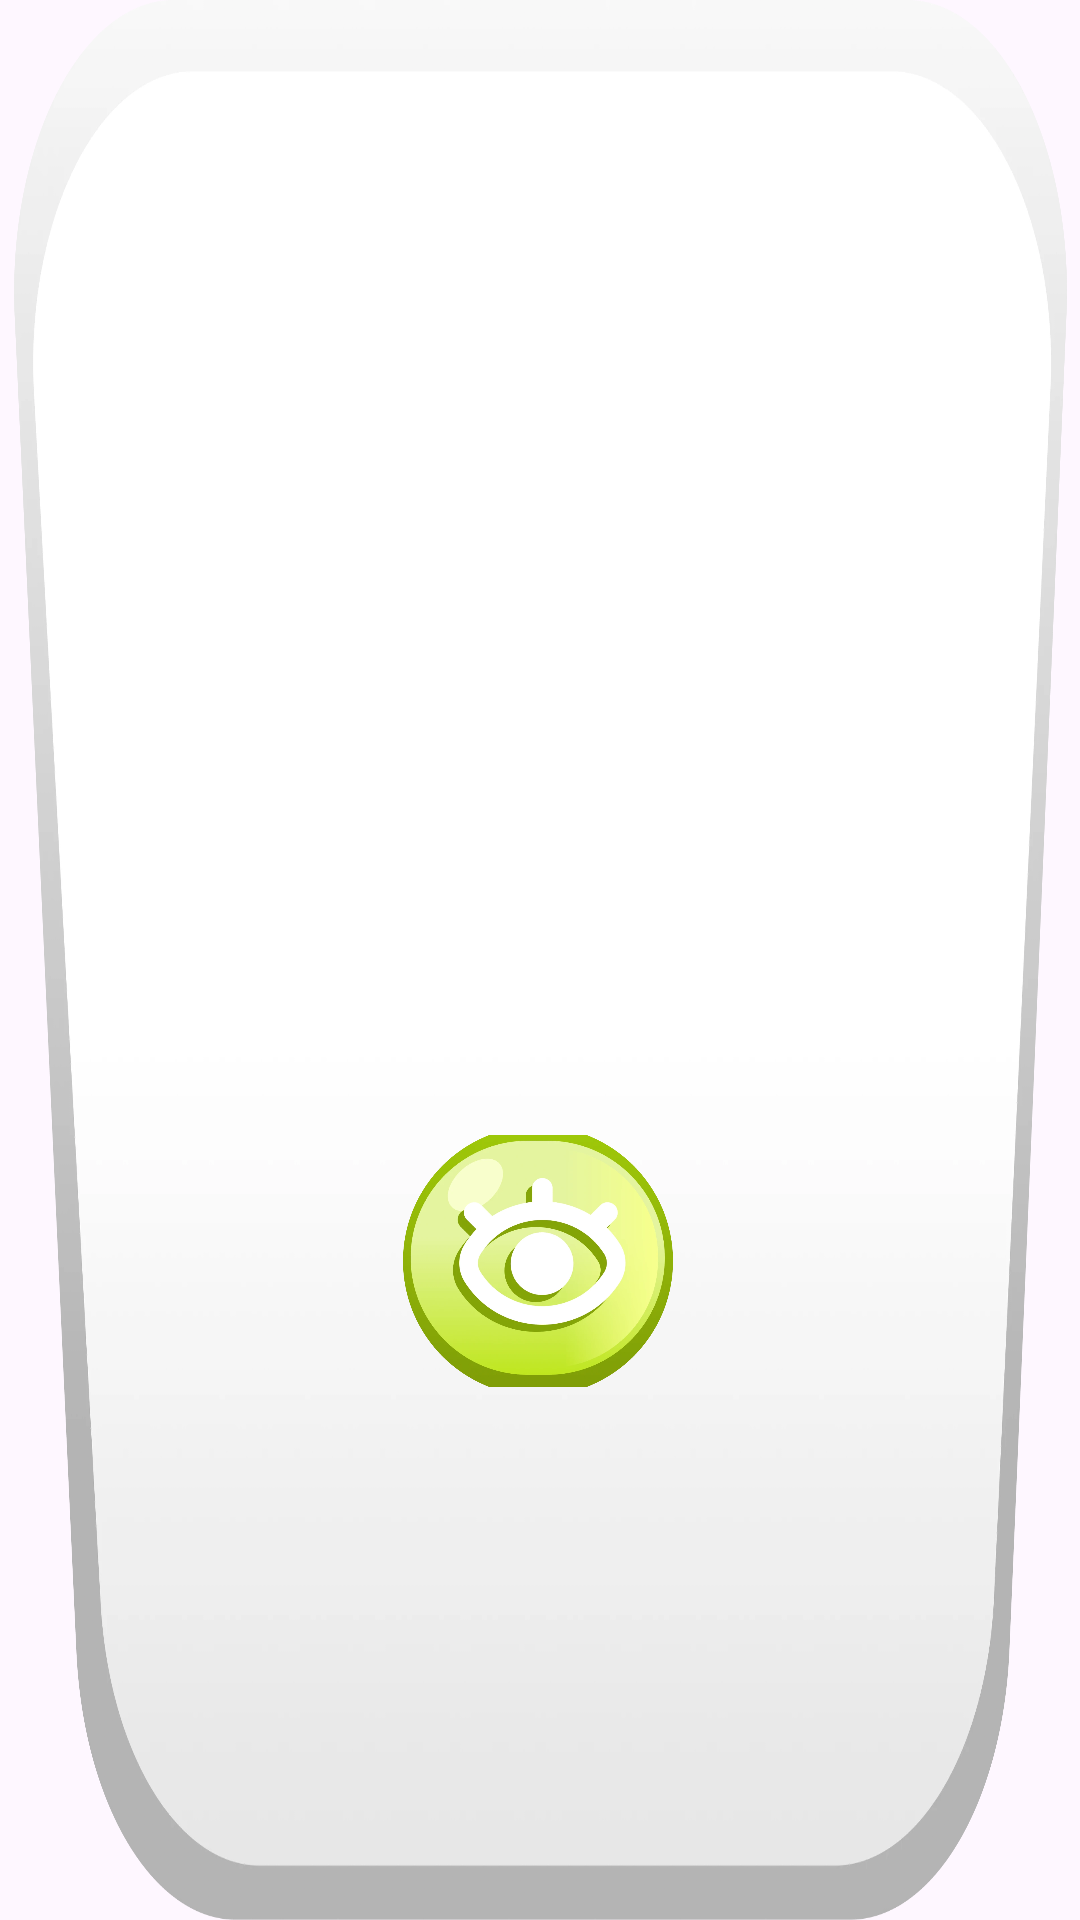

Named icons in this screenshot (1080px×1920px) and their bounding boxes, (x1, y1, x2, y2):
eye: (403, 1135, 673, 1387)
